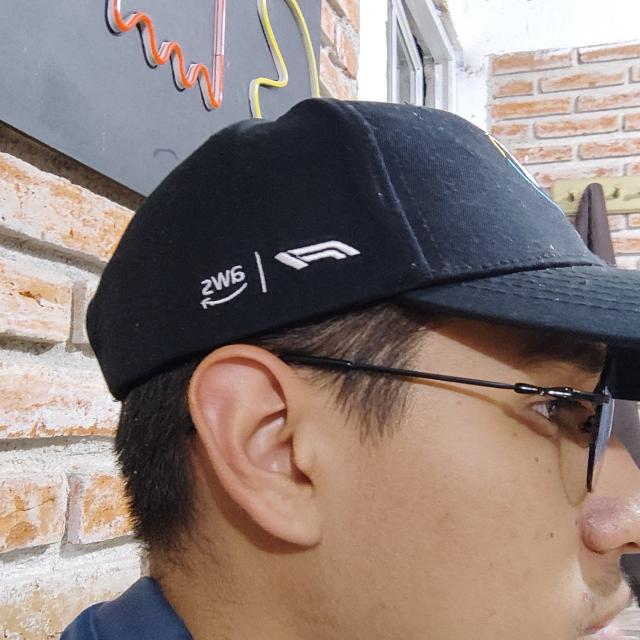ear: (189, 346, 323, 545)
